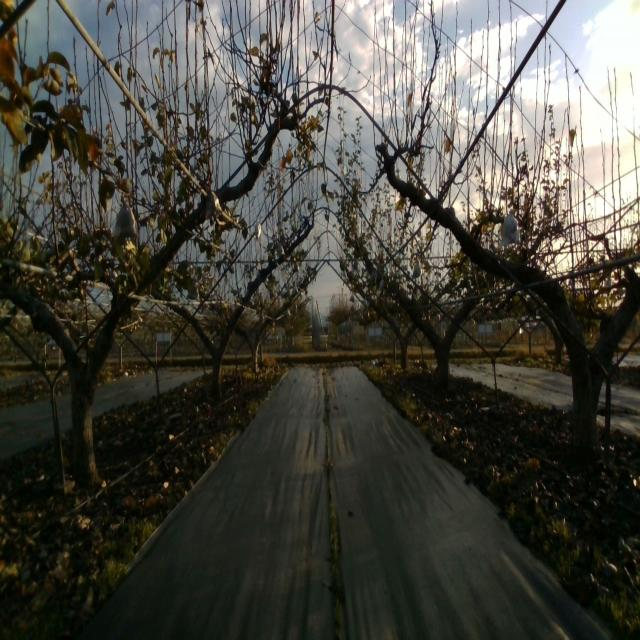pearbags: (113, 195, 140, 240), (499, 209, 521, 247), (205, 187, 223, 221), (412, 258, 422, 280)
